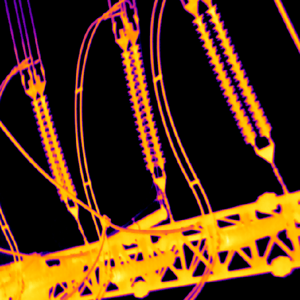insulator: (208, 4, 270, 138), (195, 13, 254, 144), (131, 41, 164, 170), (122, 47, 154, 172), (38, 93, 75, 200), (32, 99, 68, 203), (216, 213, 285, 248), (110, 251, 173, 279)
